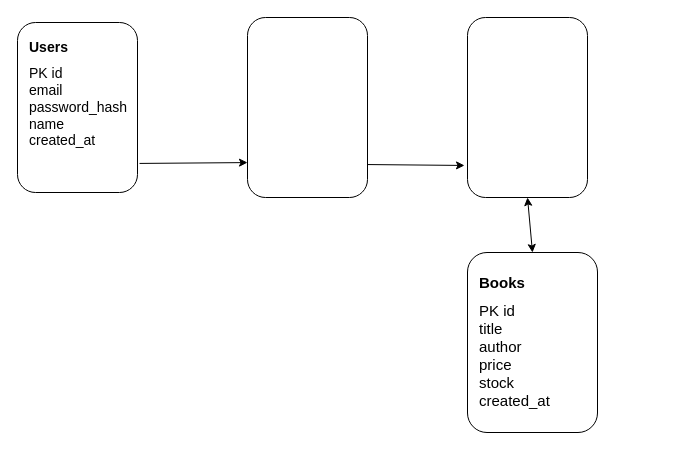
Image size: 675x450. Some labels were removed from this diagram. Here are the shapes that lost their labels. From the top down, the box of each, then its label:
(246, 16, 368, 198): Orders PK id FK user_id total_price status created_at
(466, 16, 588, 198): Ordered items PK, FK order_id PK, FK book_id quantity price
